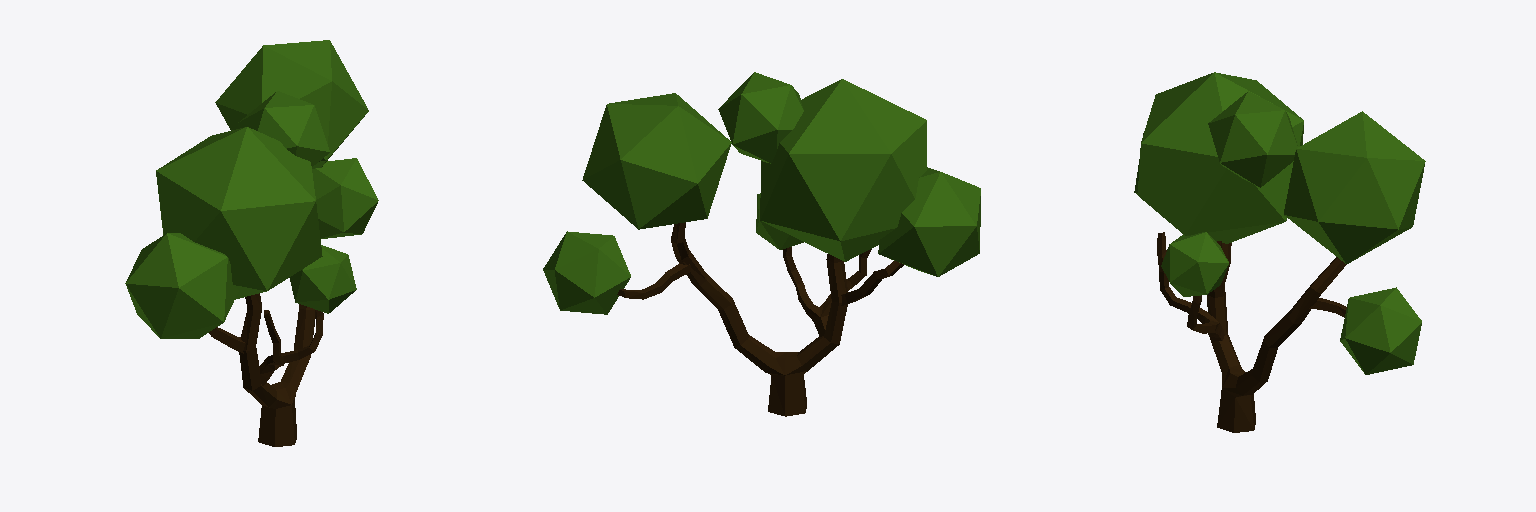
The model's file is Lowpoly_tree_sample.obj.
3 renders of one model, left to right at view 1: azimuth 30°, elevation 25°; view 2: azimuth 150°, elevation 25°; view 3: azimuth 270°, elevation 25°, orthographic.
Visible parts, largest first — view 1: Tree_lp_11; view 2: Tree_lp_11; view 3: Tree_lp_11.
Boxes of the visible parts, box(x1,y1,x2,y2) form: Tree_lp_11: box(125, 40, 378, 446); Tree_lp_11: box(543, 72, 980, 416); Tree_lp_11: box(1134, 72, 1425, 432).
Bounding box in the file's own units: 280 × 265 × 208.